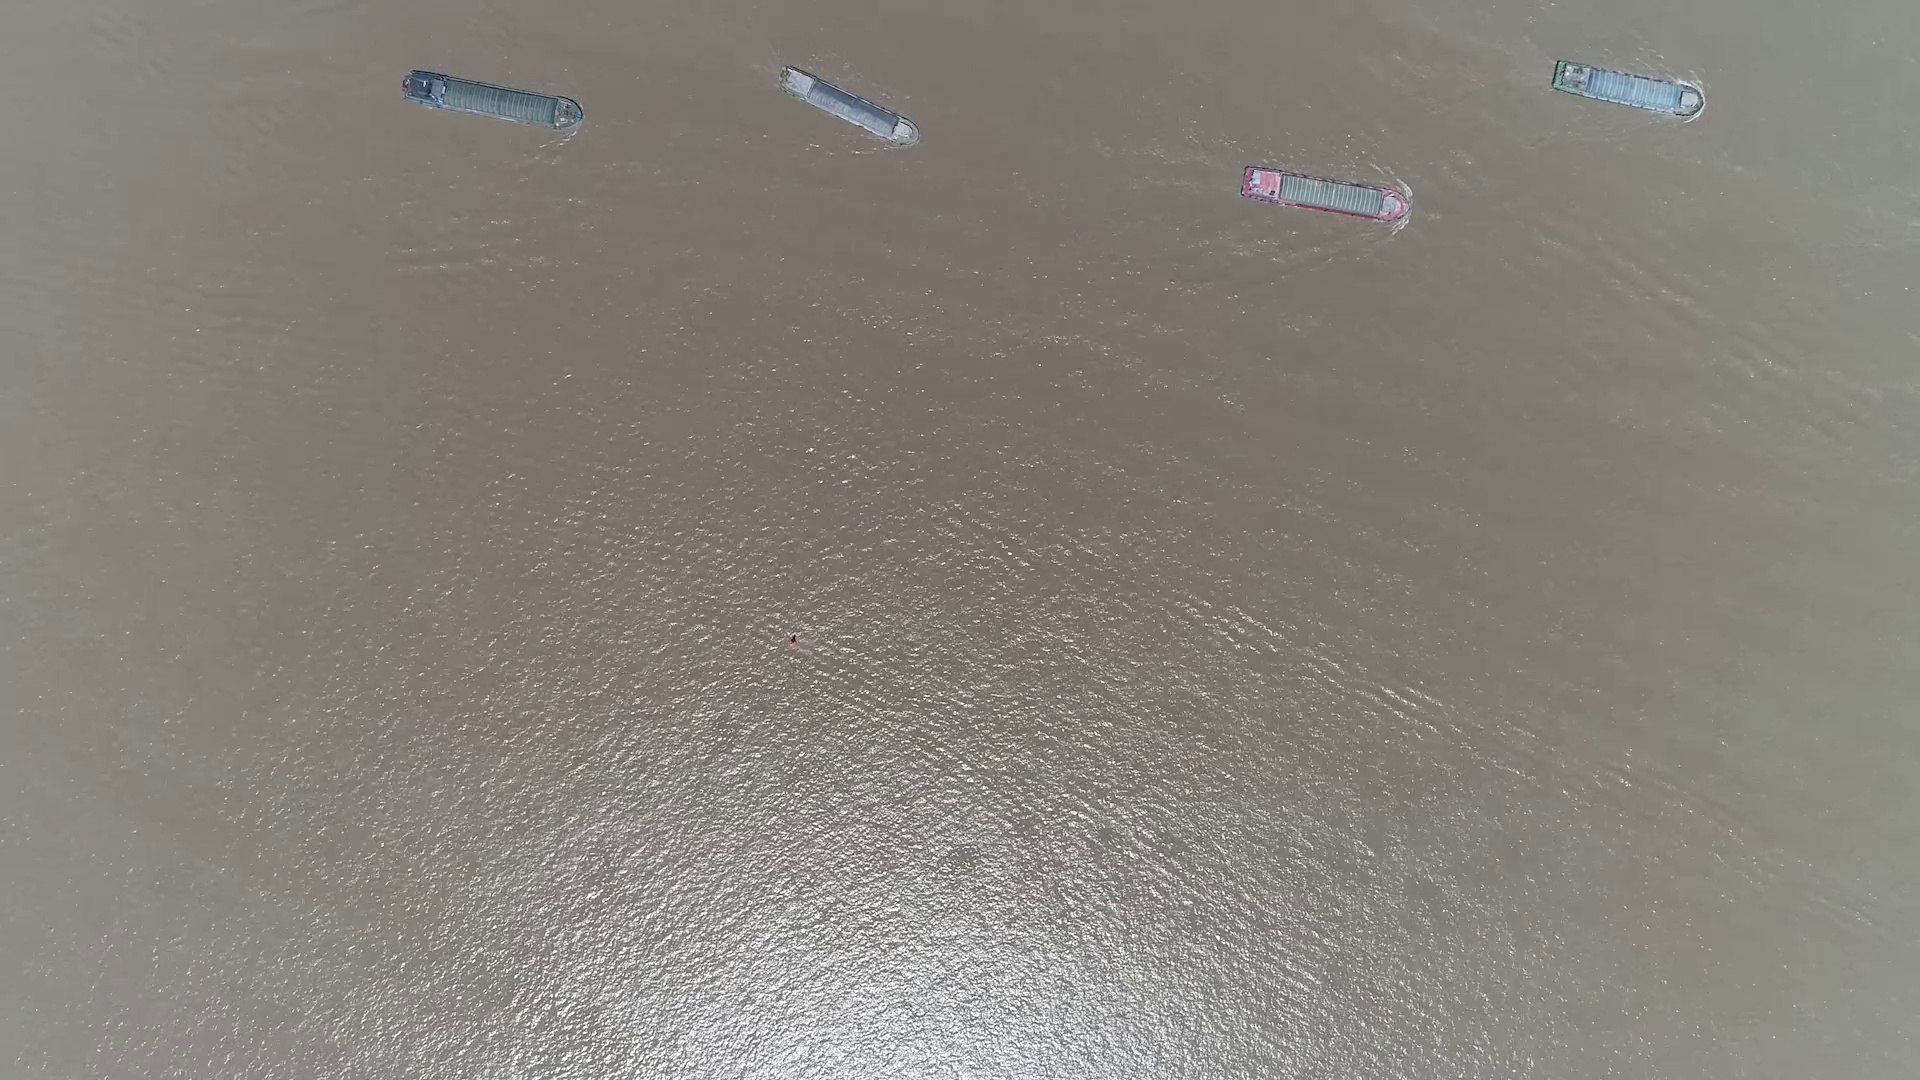ship: (401, 69, 582, 131), (779, 69, 916, 146), (1240, 167, 1411, 223), (1549, 63, 1702, 115)
